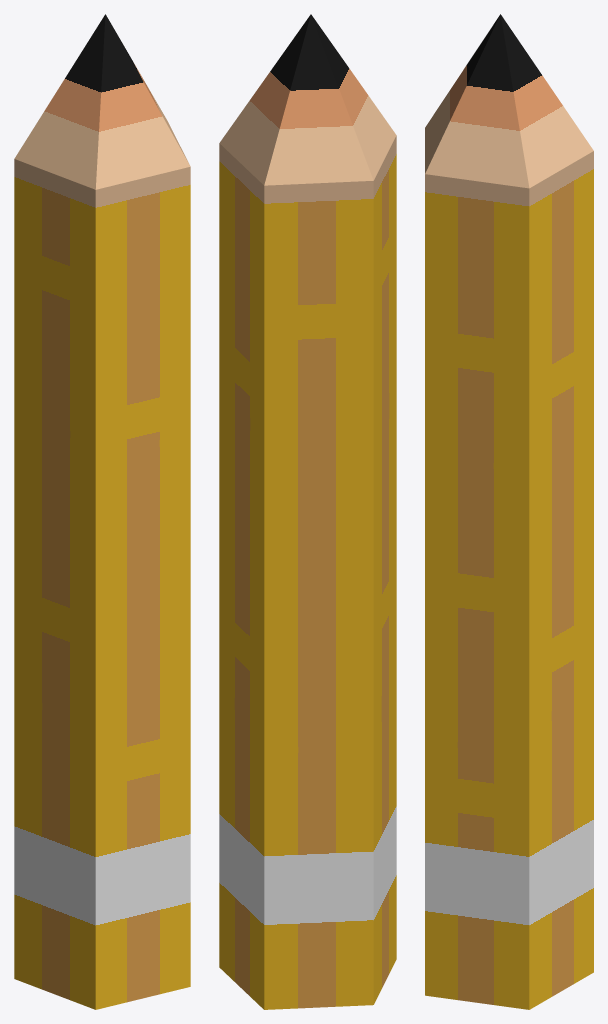
File: pencil2.gltf
3 views of the same model, side by side, from view 1: azimuth 30°, elevation 25°; view 2: azimuth 150°, elevation 25°; view 3: azimuth 270°, elevation 25° (orthographic).
Parts seen in each view (by area): view 1: cylinder; view 2: cylinder; view 3: cylinder.
Boxes of the visible parts, left/top/right/bottom form: cylinder: left=14, top=14, right=190, bottom=1009; cylinder: left=219, top=14, right=396, bottom=1009; cylinder: left=425, top=14, right=593, bottom=1009.
Size of the model in its own units: 0.1469 by 0.875 by 0.1398.
Materials: 1 (1 with a texture image).
